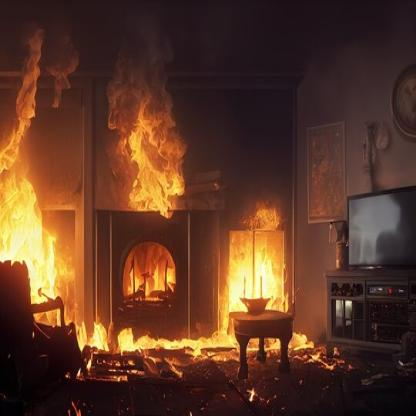fire: (79, 208, 329, 363), (0, 44, 72, 310), (115, 95, 188, 229), (126, 252, 180, 305)
smoke: (48, 0, 416, 199)
